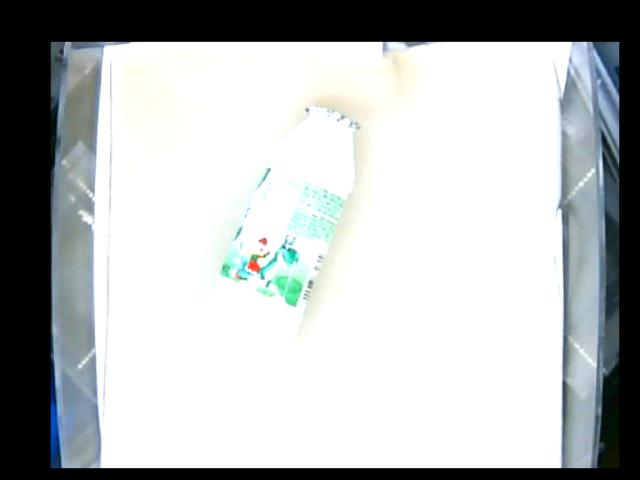Bottle: (205, 107, 361, 349)
